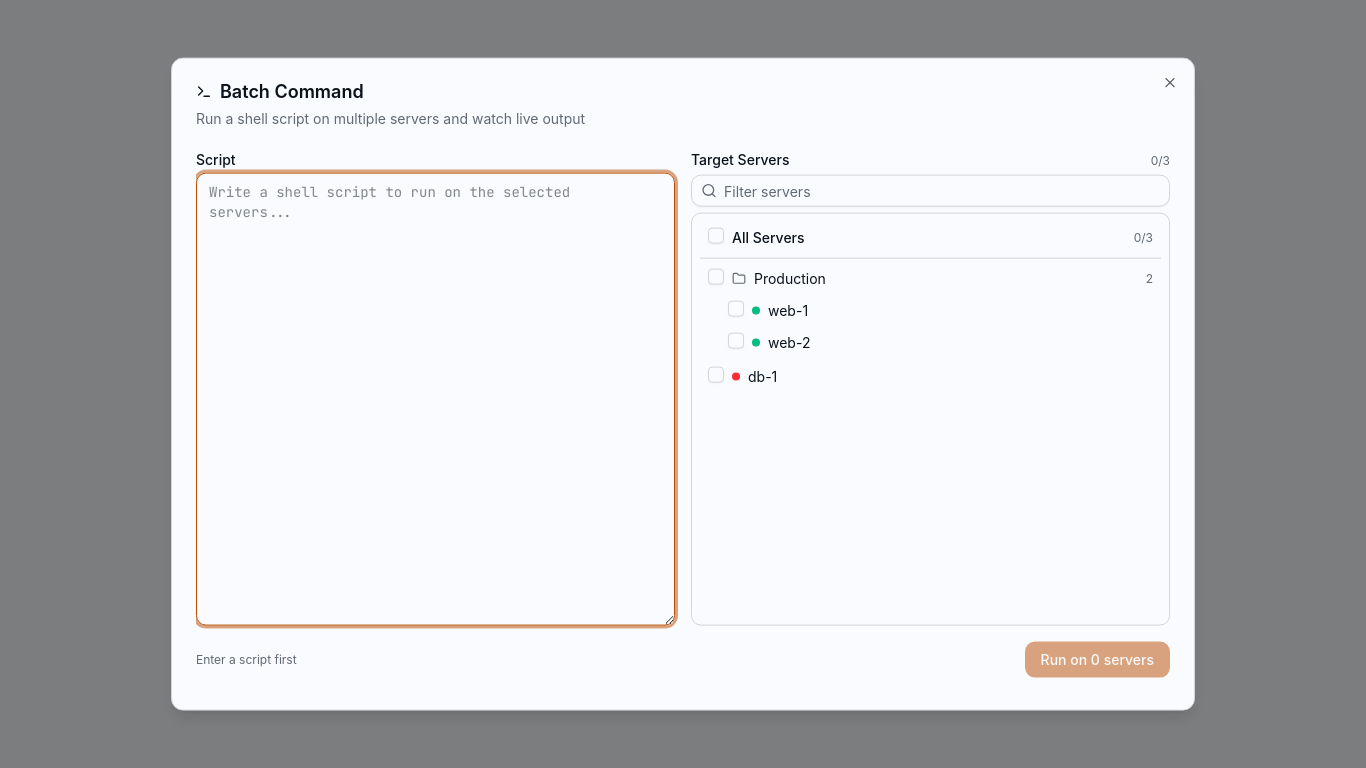
BatchCommandDialog › checking a Group selects all its members and updates the count
The width and height of the screenshot is (1366, 768).
Click the text "Production" at (790, 279), box x1=754 y1=269 x2=826 y2=289
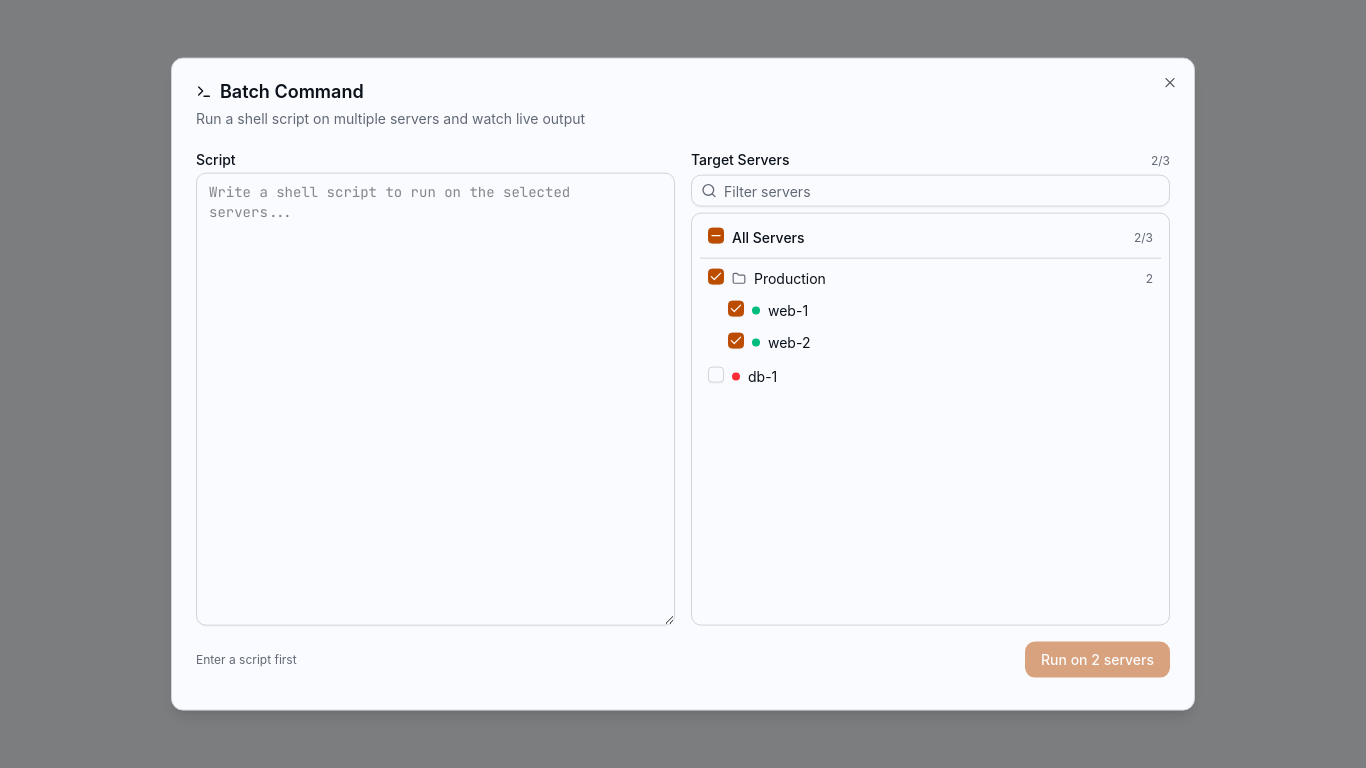
Expected: the button "Run on 2 servers" is disabled, x1=1025 y1=641 x2=1170 y2=677
Type "echo hi" into the text box labelled "Script" at (436, 399), box x1=196 y1=173 x2=675 y2=625
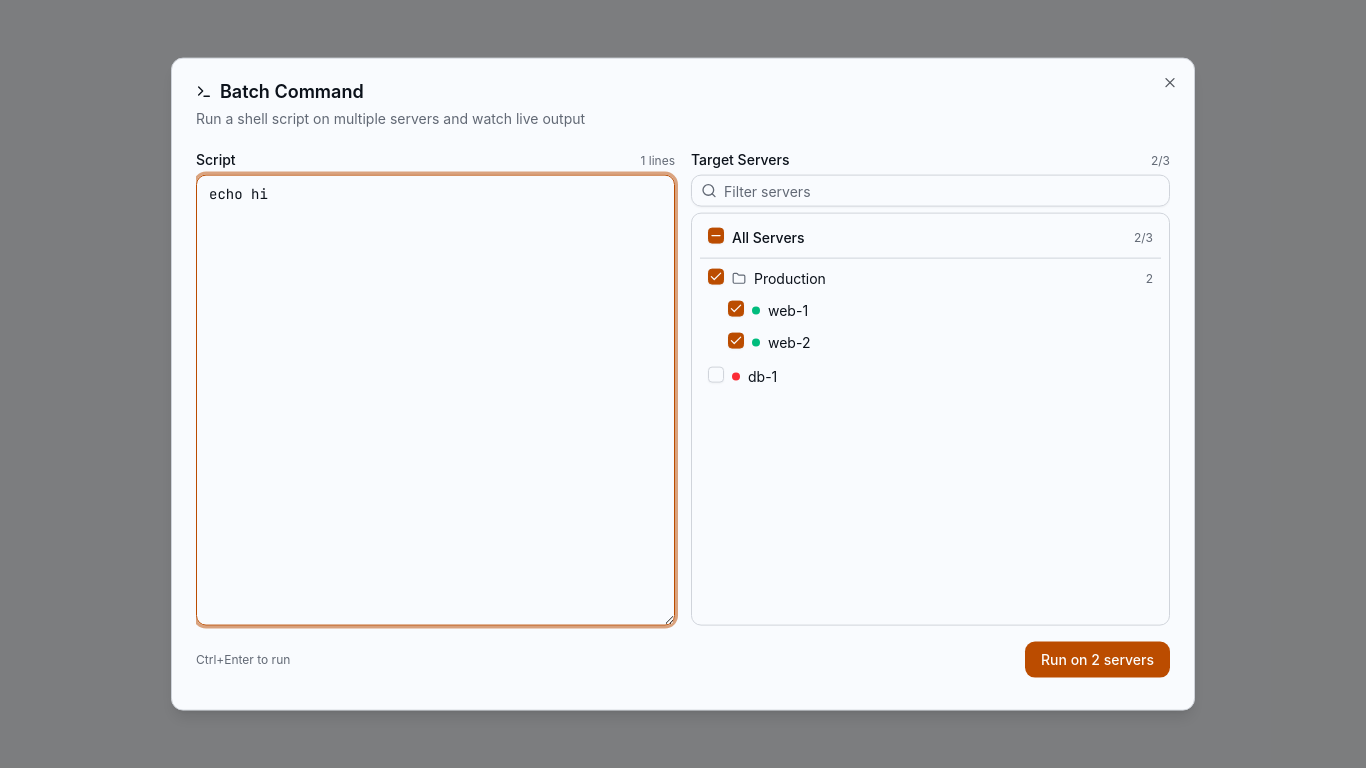
Result: the button "Run on 2 servers" is enabled at x1=1025 y1=641 x2=1170 y2=677
